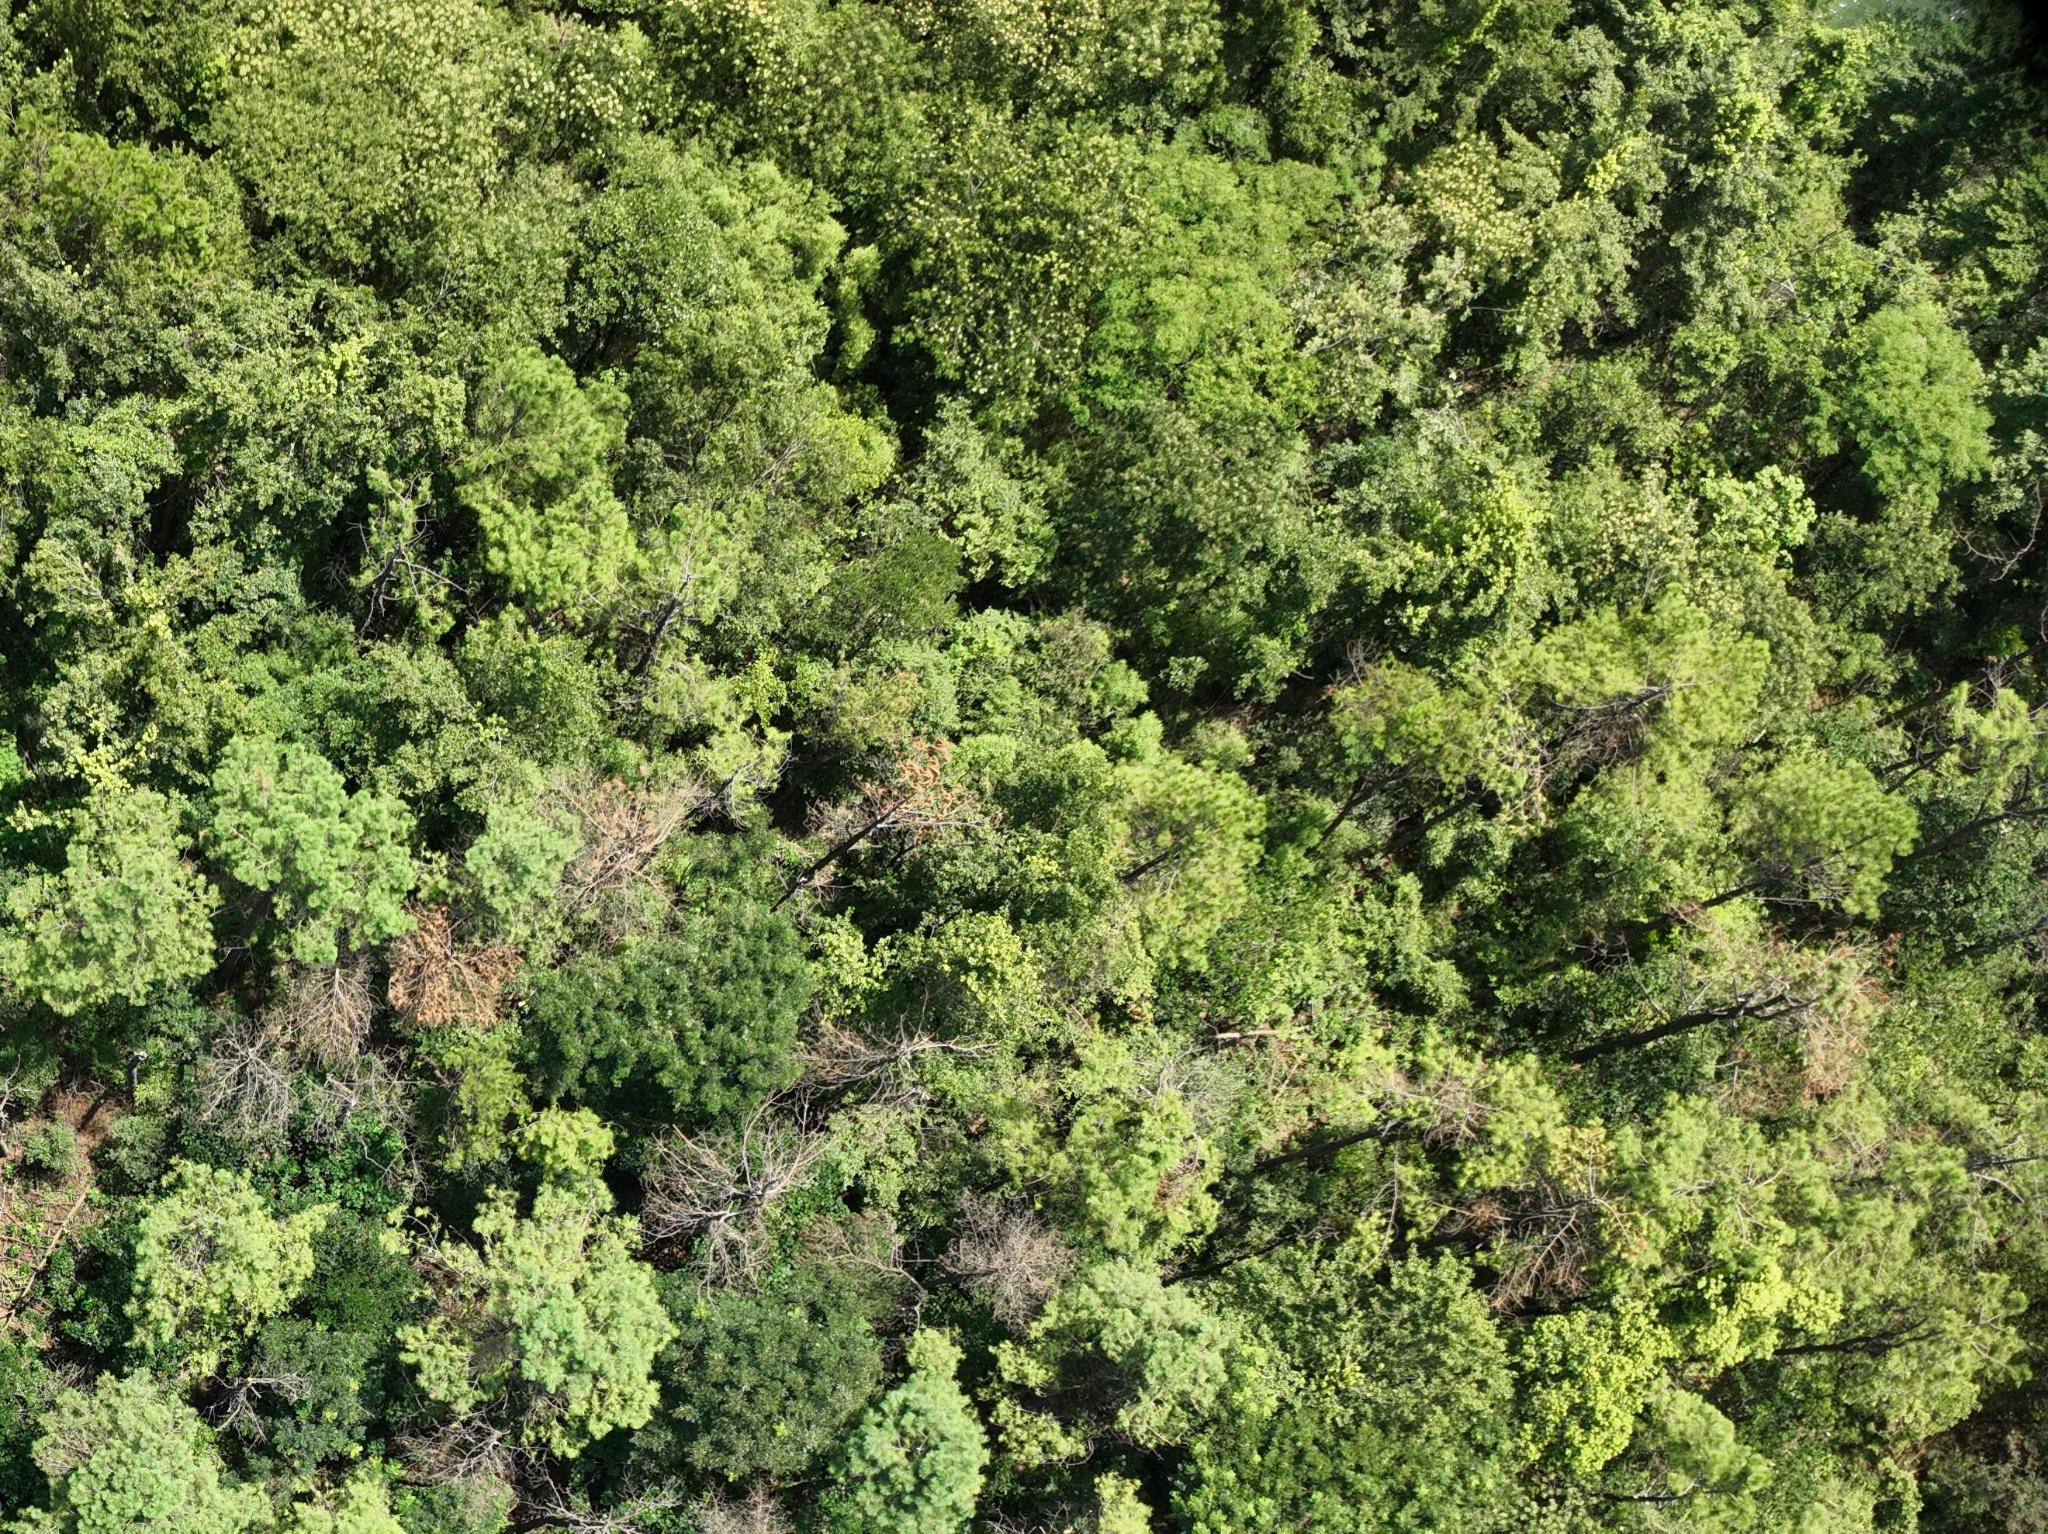dead: (197, 980, 390, 1155), (641, 1099, 806, 1279), (956, 1186, 1072, 1325), (812, 1012, 980, 1091), (409, 1397, 511, 1494)
heavy: (562, 772, 691, 927), (390, 912, 520, 1034), (860, 744, 991, 838)
